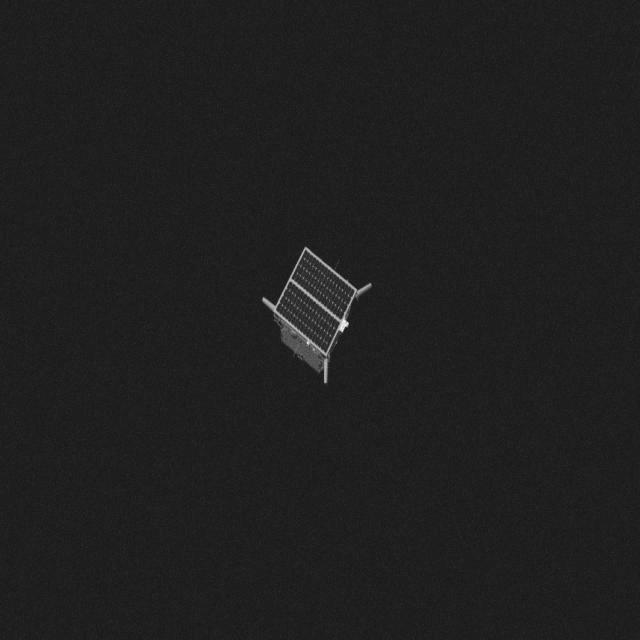medium_debris: (258, 242, 374, 386)
